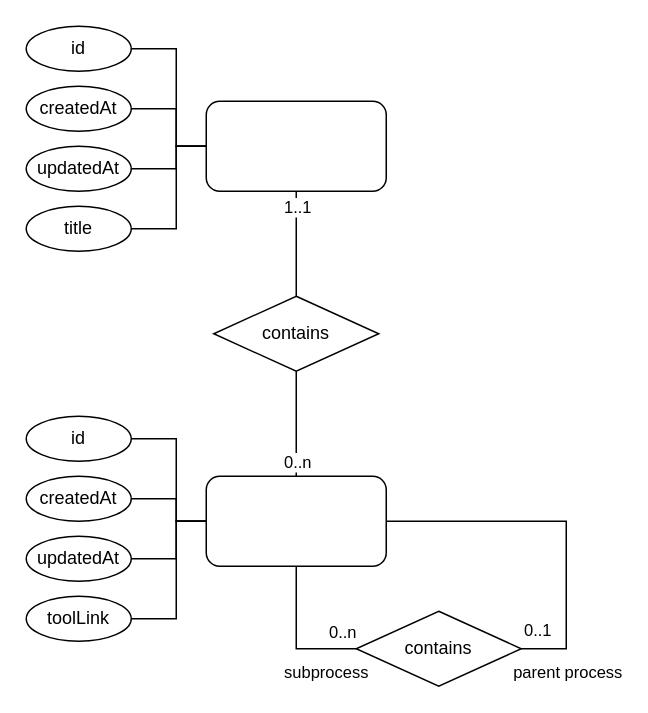
Image size: 648x713. Some labels were removed from this diagram. The centre of each missing label's shape, as x and y in pixels:
Area: point 295,145
Process: point 295,520
